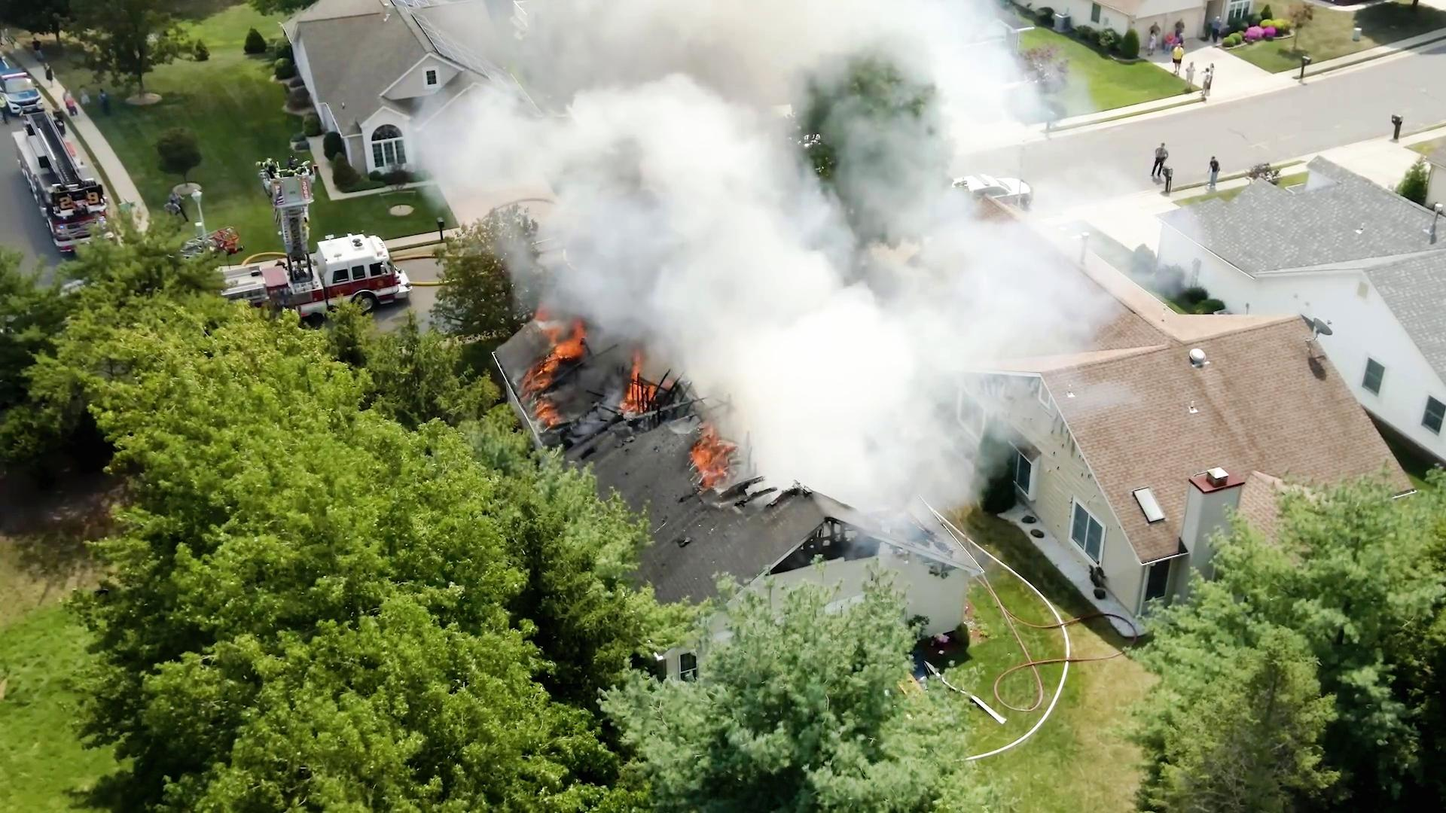smoke: (599, 0, 833, 339), (552, 0, 825, 157)
